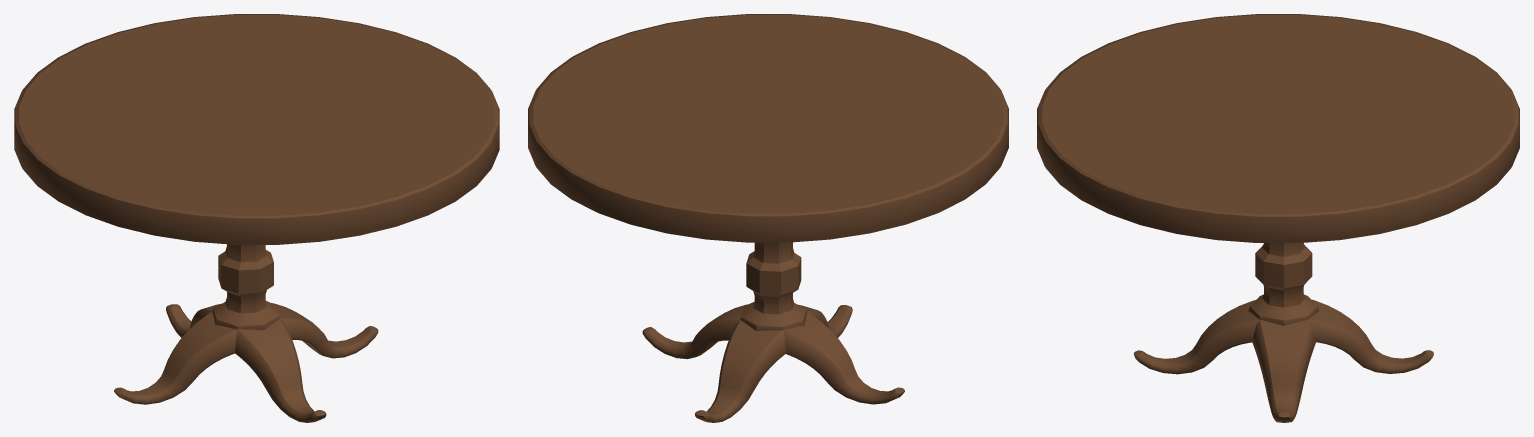
File: ME_SE_Table.fbx
The picture shows the model from 3 angles, left to right: view 1: azimuth 30°, elevation 25°; view 2: azimuth 150°, elevation 25°; view 3: azimuth 270°, elevation 25°; orthographic projection.
Parts seen in each view (by area): view 1: ME_SE_Table; view 2: ME_SE_Table; view 3: ME_SE_Table.
Boxes of the visible parts, x1,y1,x2,y2 form: ME_SE_Table: [14, 14, 499, 422]; ME_SE_Table: [528, 14, 1008, 422]; ME_SE_Table: [1037, 14, 1519, 422].
Size of the model in its own units: 13355 by 7927 by 13370.
